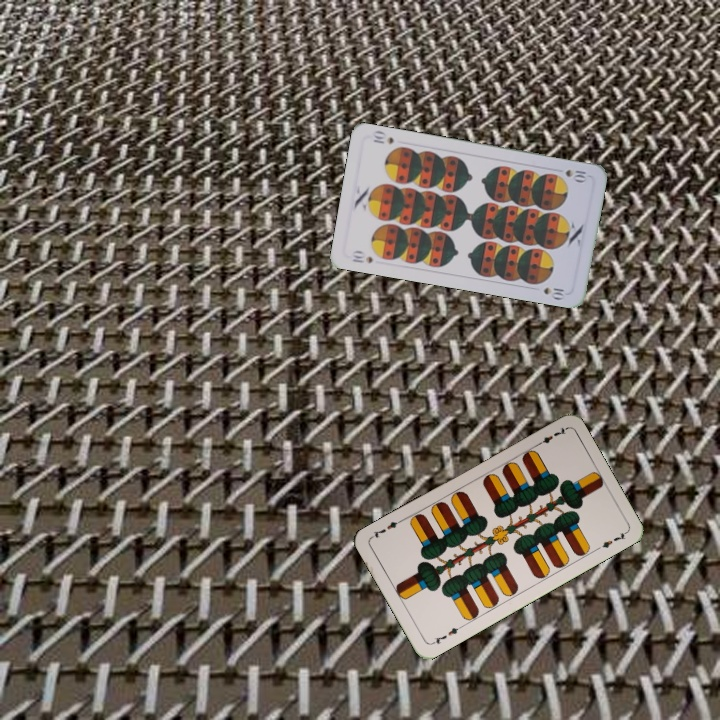E7: (532, 423, 569, 449), (428, 622, 465, 647)
S10: (561, 165, 590, 183), (348, 247, 375, 266)
